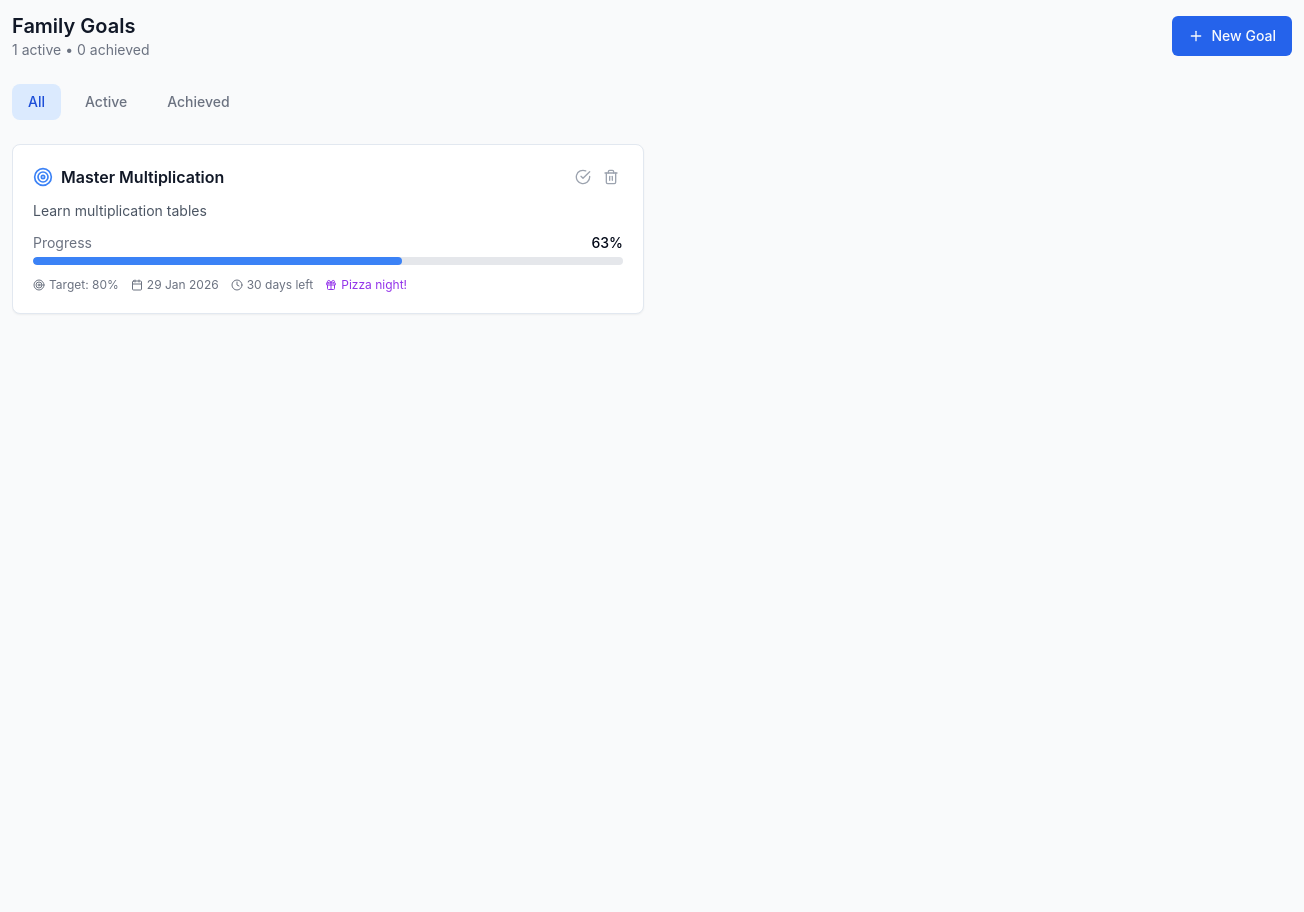
Test: GoalsTab › creating goals › shows create form when New Goal clicked
The image size is (1304, 912).
What coordinates should you click on to do the following:
click the button "New Goal"
I would click on:
 (1232, 36)
Its box is [1172,16,1292,56].
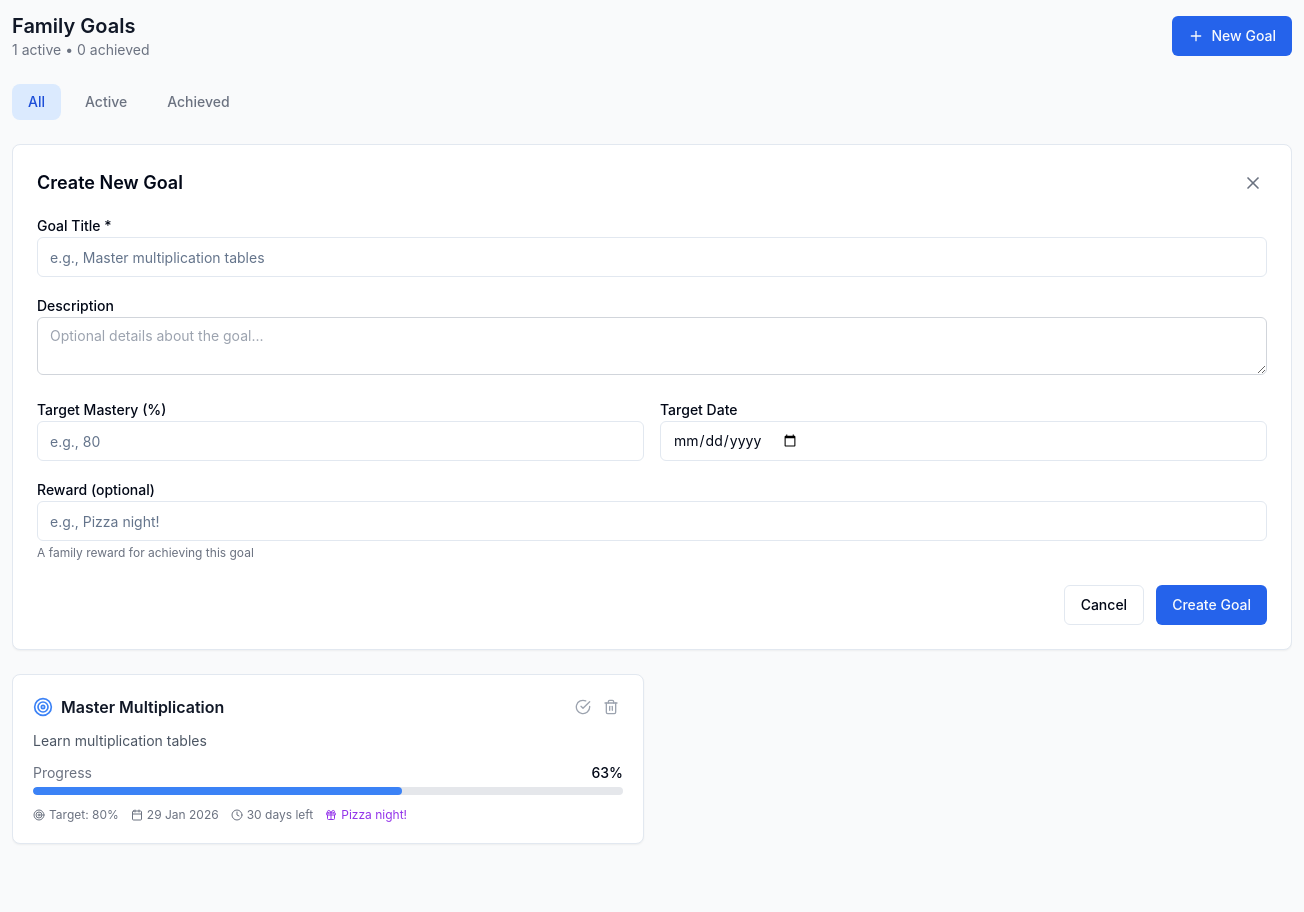
Expected: the heading "Create New Goal" is shown, [37,169,183,197]
